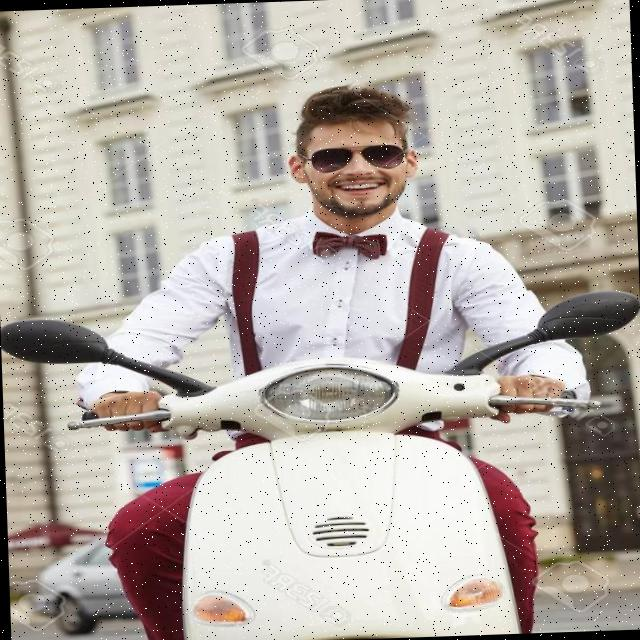No helmet: (282, 85, 443, 256)
